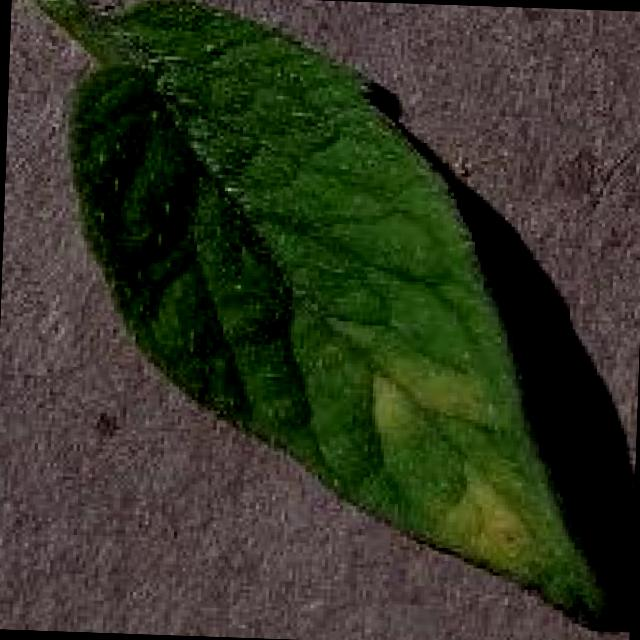leaf mold: (19, 0, 623, 627)
